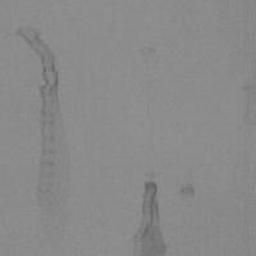Water spot: (13, 24, 74, 239), (131, 179, 169, 256), (239, 50, 256, 131), (137, 45, 164, 76), (179, 184, 197, 201)
